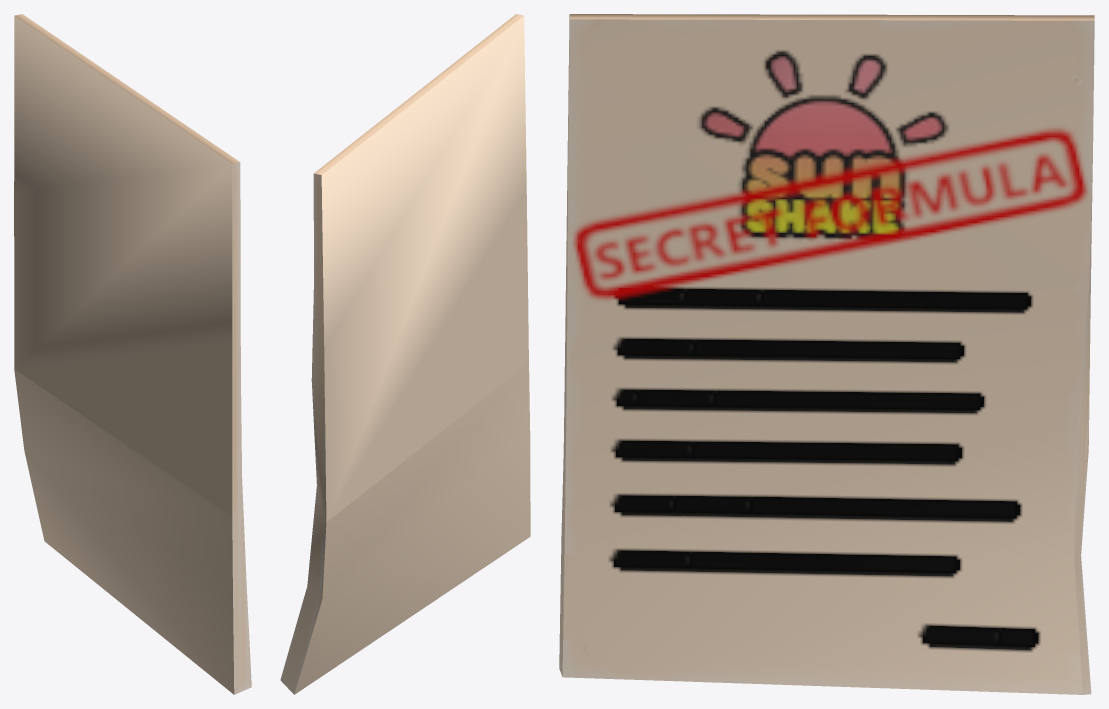
Rendered from woctemplerecipe.fbx.
3 renders of one model, left to right at view 1: azimuth 30°, elevation 25°; view 2: azimuth 150°, elevation 25°; view 3: azimuth 270°, elevation 25°, orthographic. The views are drawn at different scales.
Visible parts, largest first — view 1: LP; view 2: LP; view 3: LP.
Part boxes in pixels (x1,y1,x2,y2): LP: (14, 14, 251, 694); LP: (280, 14, 530, 694); LP: (559, 14, 1094, 694).
Size of the model in its own units: 0.1668 by 1.75 by 1.27.
